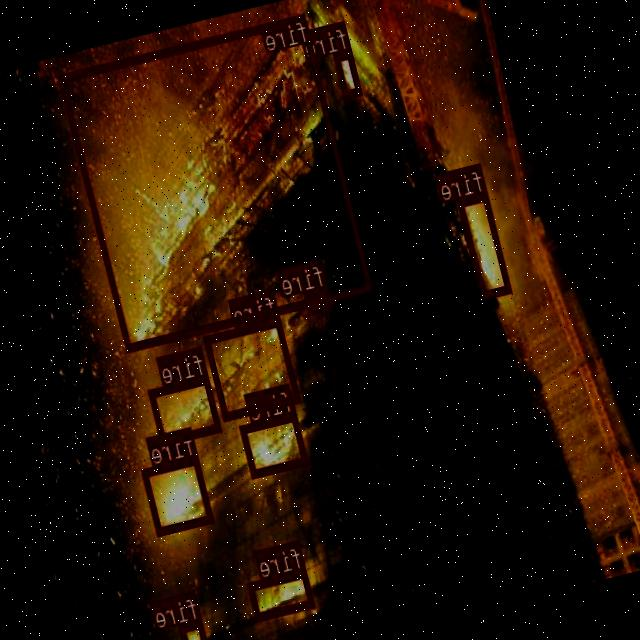fire: (59, 12, 374, 350), (204, 316, 301, 419), (458, 190, 512, 298), (142, 453, 214, 534), (148, 374, 222, 443), (240, 410, 309, 475), (247, 566, 316, 619), (334, 48, 364, 98), (304, 284, 334, 312), (180, 618, 209, 640)
